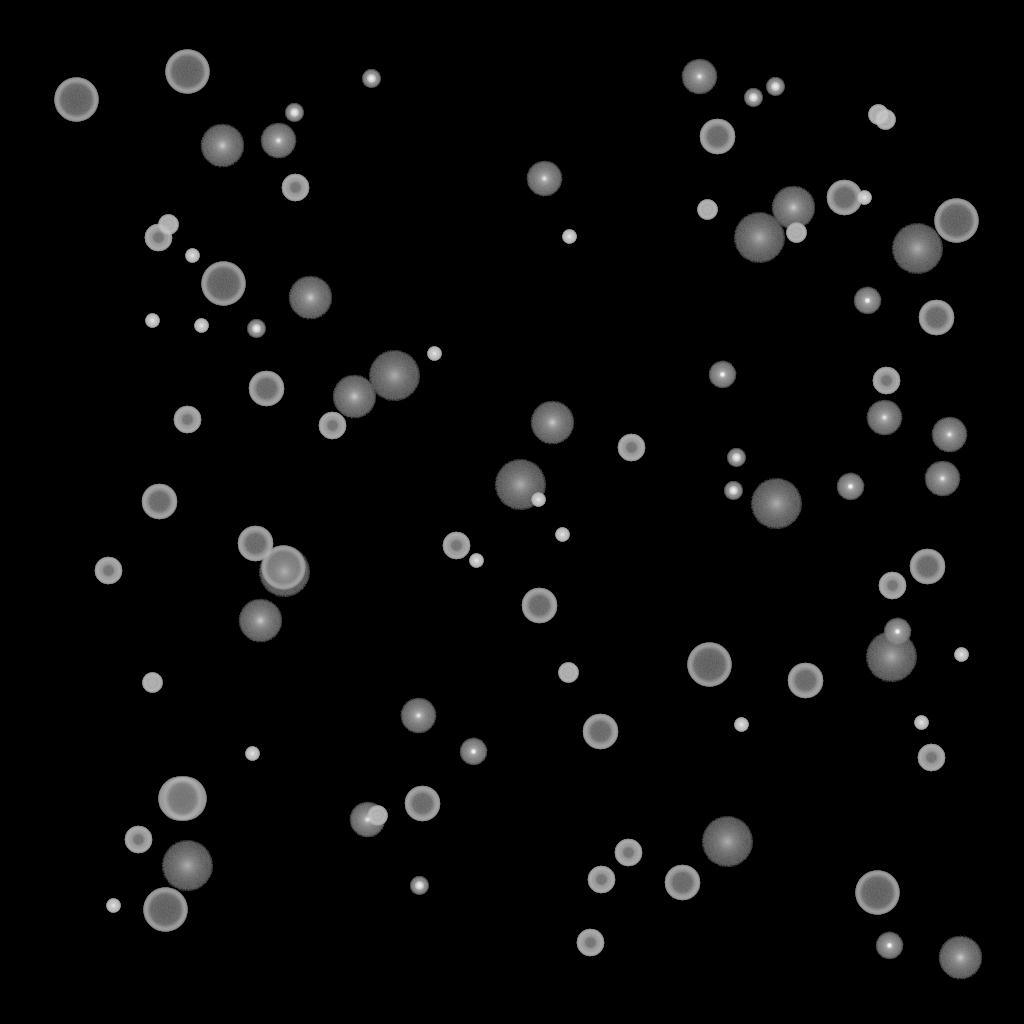depth:-10: (883, 618, 911, 646), (459, 738, 487, 766), (836, 473, 864, 501), (875, 932, 903, 960), (708, 361, 736, 389), (853, 287, 881, 315)
depth:-20: (766, 78, 784, 96), (410, 877, 428, 895), (724, 482, 742, 500), (362, 70, 380, 88), (285, 104, 303, 122), (744, 89, 762, 107), (727, 449, 745, 467), (247, 320, 265, 338)
depth:-30: (954, 648, 968, 662), (555, 528, 569, 542), (562, 230, 576, 244), (531, 493, 545, 507), (734, 718, 748, 732), (857, 191, 871, 205), (245, 747, 259, 761), (106, 899, 120, 913), (427, 347, 441, 361), (914, 716, 928, 730), (145, 314, 159, 328), (469, 554, 483, 568), (185, 249, 199, 263), (194, 319, 208, 333)
depth:-40: (158, 215, 178, 235), (868, 105, 888, 125), (697, 200, 717, 220), (875, 110, 895, 130), (367, 806, 387, 826), (142, 673, 162, 693), (558, 663, 578, 683), (786, 223, 806, 243)
depth:-50: (587, 866, 615, 894), (124, 826, 152, 854), (281, 174, 309, 202), (173, 406, 201, 434), (872, 367, 900, 395), (917, 744, 945, 772), (144, 224, 172, 252), (878, 572, 906, 600), (94, 557, 122, 585), (617, 434, 645, 462), (442, 532, 470, 560), (576, 929, 604, 957), (318, 412, 346, 440), (614, 839, 642, 867)
depth:-60: (826, 180, 862, 216), (909, 549, 945, 585), (699, 119, 735, 155), (404, 786, 440, 822), (248, 371, 284, 407), (237, 526, 273, 562), (141, 484, 177, 520), (582, 714, 618, 750), (918, 300, 954, 336), (521, 588, 557, 624), (664, 865, 700, 901), (787, 663, 823, 699)
depth:-70: (165, 50, 209, 94), (201, 262, 245, 306), (158, 777, 202, 821), (855, 871, 899, 915), (143, 888, 187, 932), (261, 546, 305, 590), (162, 777, 206, 821), (54, 78, 98, 122), (934, 199, 978, 243), (687, 643, 731, 687)
depth:0: (866, 400, 902, 436), (349, 802, 385, 838), (924, 461, 960, 497), (526, 161, 562, 197), (931, 417, 967, 453), (400, 698, 436, 734), (681, 59, 717, 95), (260, 123, 296, 159)
depth:10: (332, 375, 376, 419), (200, 124, 244, 168), (938, 936, 982, 980), (288, 276, 332, 320), (530, 401, 574, 445), (771, 186, 815, 230), (238, 599, 282, 643)
depth:20: (750, 479, 802, 529), (891, 224, 943, 274), (701, 817, 753, 867), (865, 632, 917, 682), (368, 351, 420, 401), (161, 841, 213, 891), (733, 213, 785, 263), (258, 547, 310, 597), (494, 460, 546, 510)
